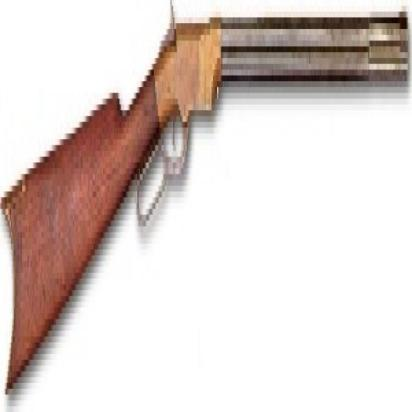Gun: (0, 4, 412, 412)
